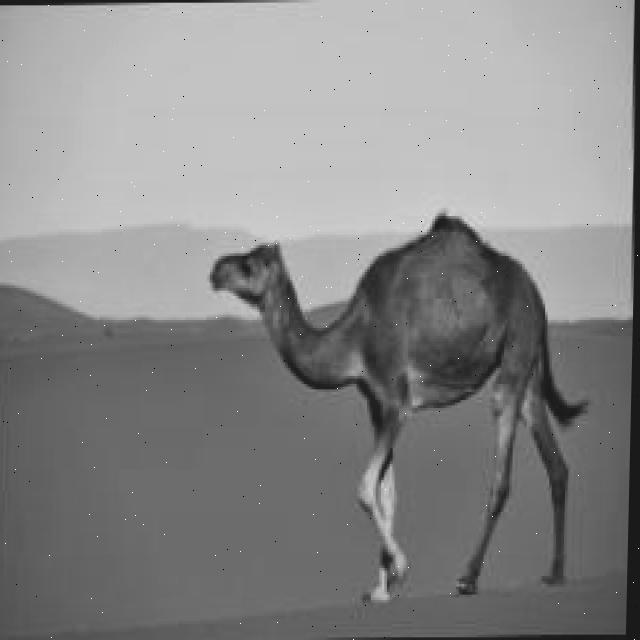Camel: (200, 211, 593, 605)
